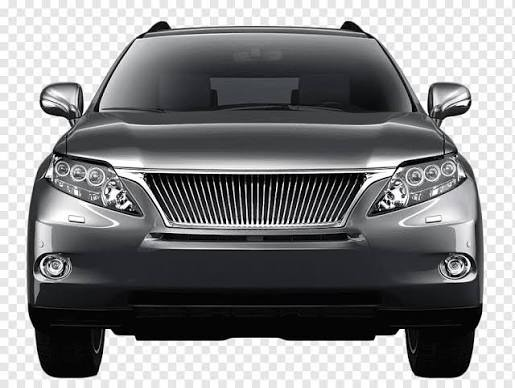car: (33, 18, 481, 379)
